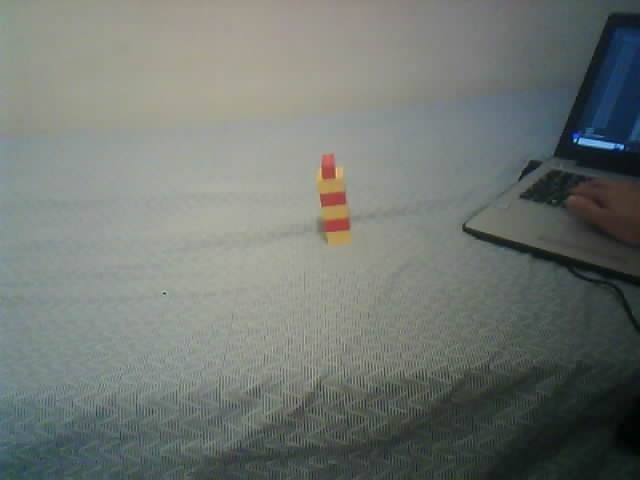lego: (315, 152, 352, 247)
